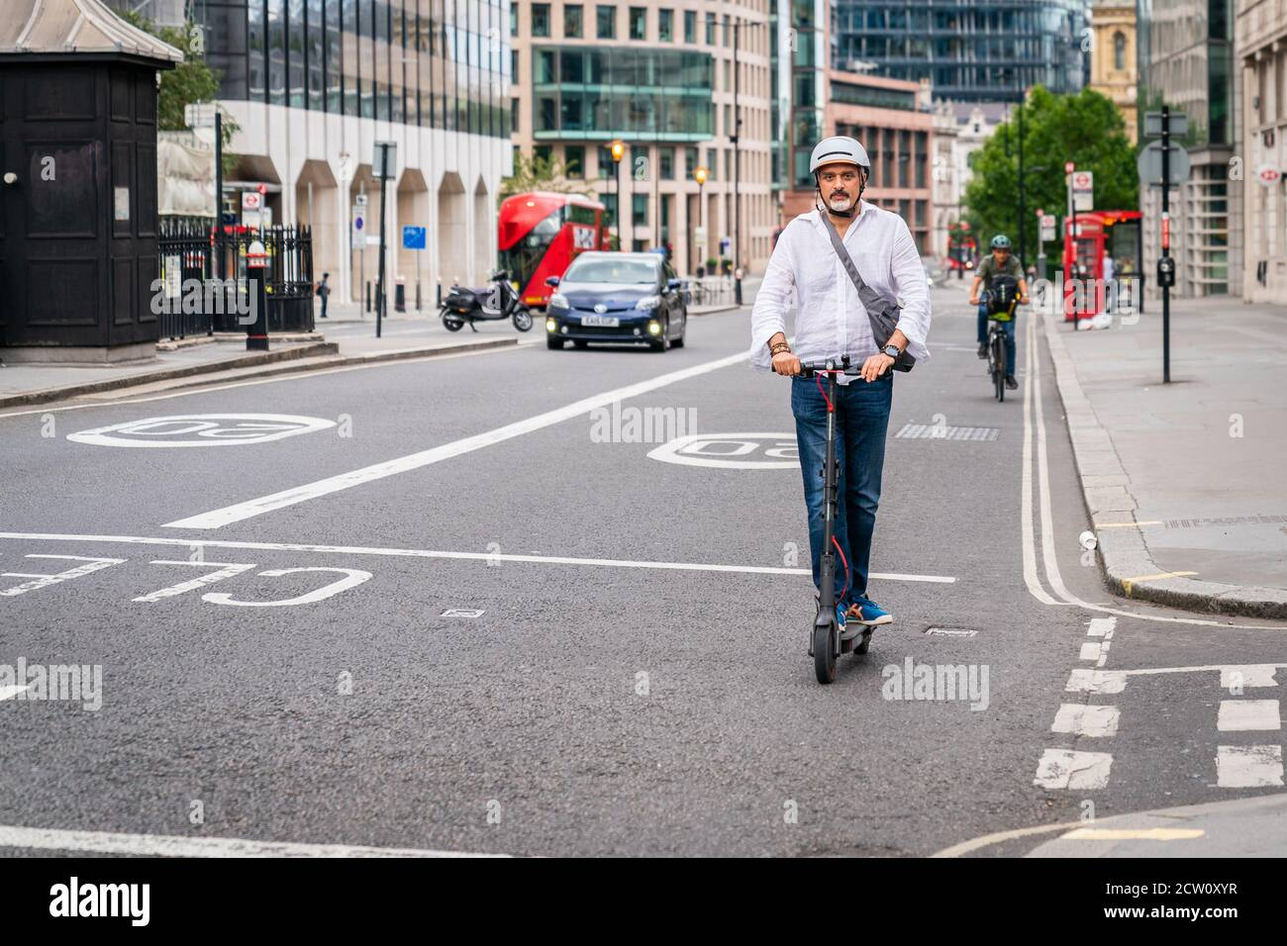helmet: (807, 128, 868, 224)
human: (748, 125, 937, 630)
kickboard: (803, 599, 899, 683)
